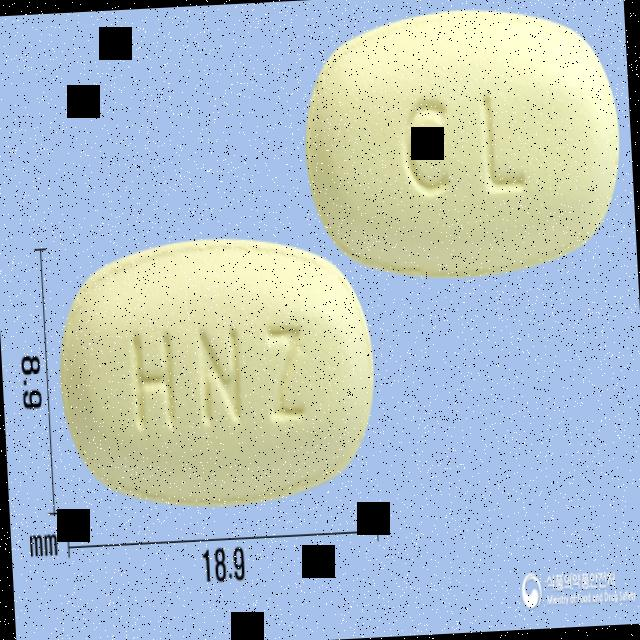Claniz: (48, 224, 388, 522), (298, 0, 629, 286)
